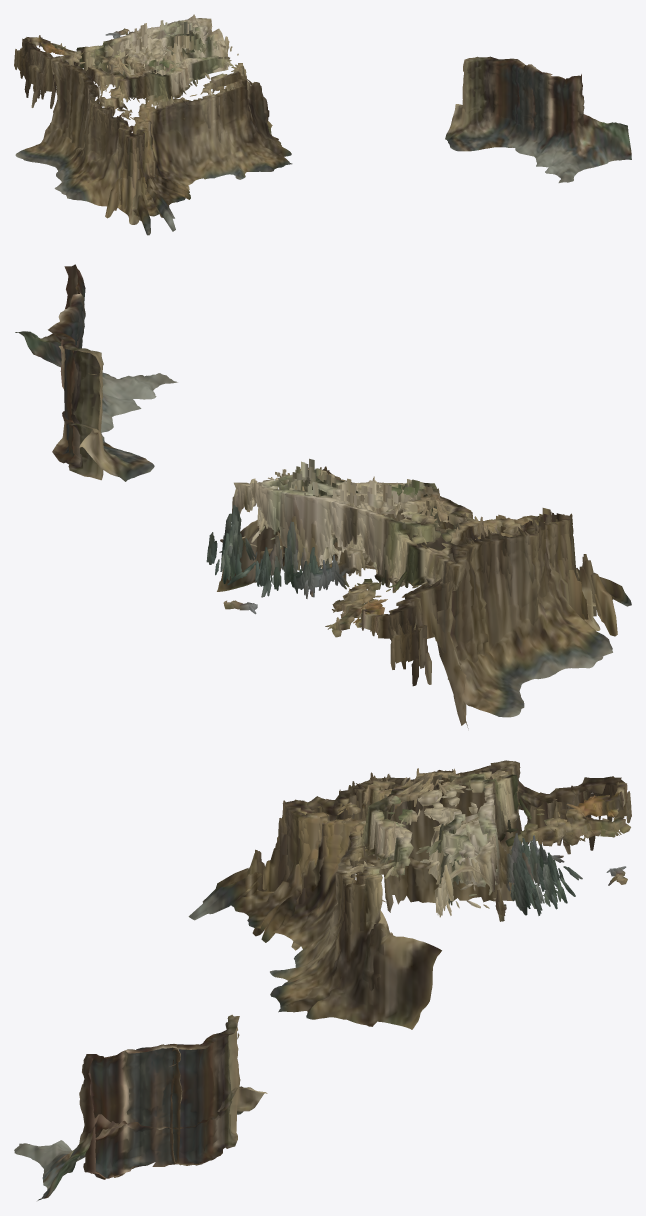
File: tile_-2_1.glb
3 renders of one model, top to bottom at view 1: azimuth 30°, elevation 25°; view 2: azimuth 150°, elevation 25°; view 3: azimuth 270°, elevation 25°, orthographic. The views are drawn at different scales.
Visible parts, largest first — view 1: mesh[3].025, mesh[0].041, mesh[1].057, mesh[5].001, mesh[0].078, mesh[2].041; view 2: mesh[0].041, mesh[3].025, mesh[1].057, mesh[5].001; view 3: mesh[0].041, mesh[1].057, mesh[3].025, mesh[0].078, mesh[2].041.
Boxes of the visible parts, x1,y1,x2,y2 form: mesh[3].025: (15,79,631,224); mesh[0].041: (14,14,250,235); mesh[1].057: (43,56,584,162); mesh[5].001: (106,16,239,135); mesh[0].078: (131,72,255,172); mesh[2].041: (249,82,269,123); mesh[0].041: (206,466,631,686); mesh[3].025: (15,331,614,717); mesh[1].057: (48,264,561,728); mesh[5].001: (251,458,562,530); mesh[0].041: (188,760,631,950); mesh[1].057: (79,768,522,1179); mesh[3].025: (14,843,441,1200); mesh[0].078: (287,807,386,967); mesh[2].041: (362,923,395,991).
Bounding box in the file's own units: 2187 × 564 × 1654.
1 material, 1 textured.
